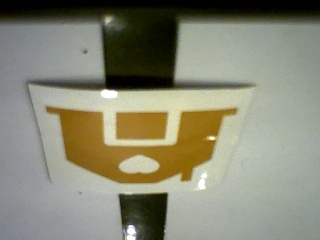Rescue_Station: (46, 106, 237, 183)
